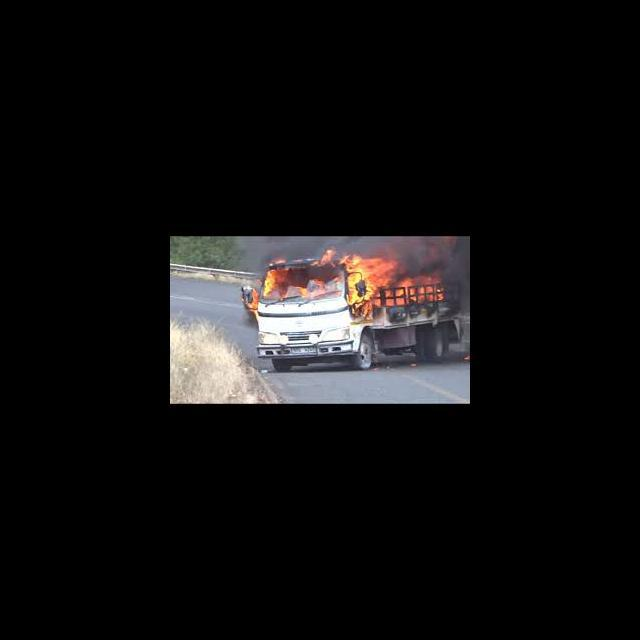Fire: (342, 251, 389, 307), (392, 278, 446, 305), (262, 266, 279, 300), (316, 249, 336, 269), (246, 287, 260, 312), (446, 236, 456, 244), (302, 287, 308, 296)
Smoke: (398, 250, 469, 278), (240, 236, 313, 258), (316, 236, 440, 248)
